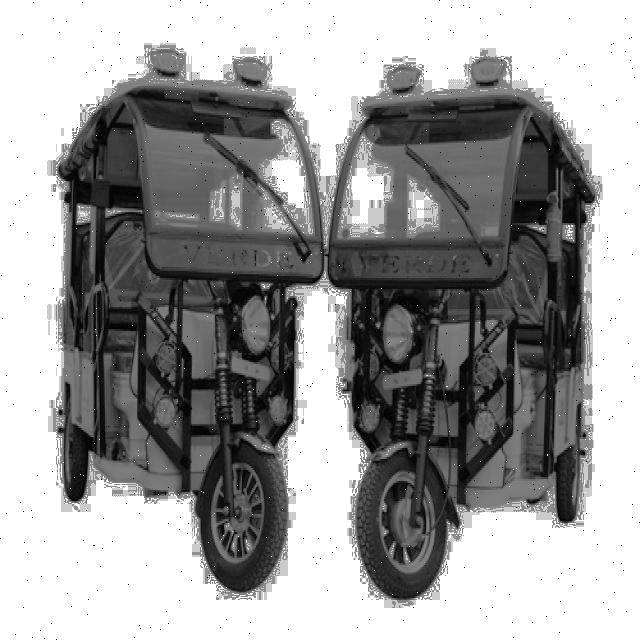Toto: (318, 83, 597, 593), (54, 75, 322, 593)
